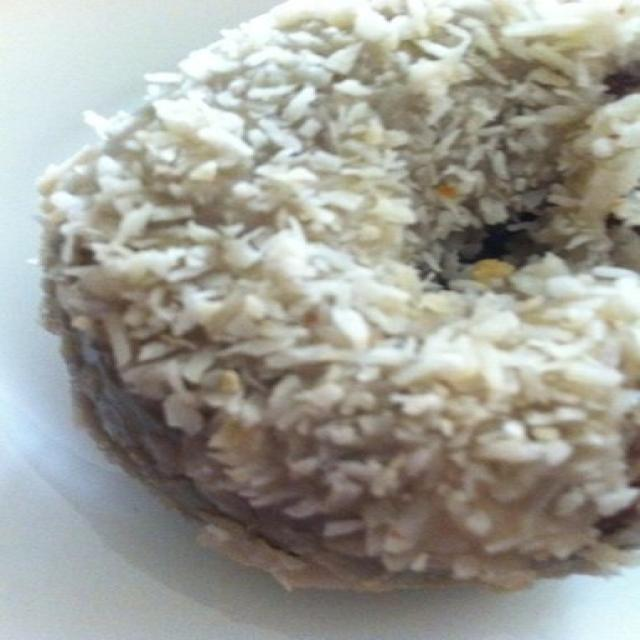Donuts: (37, 5, 640, 611)
